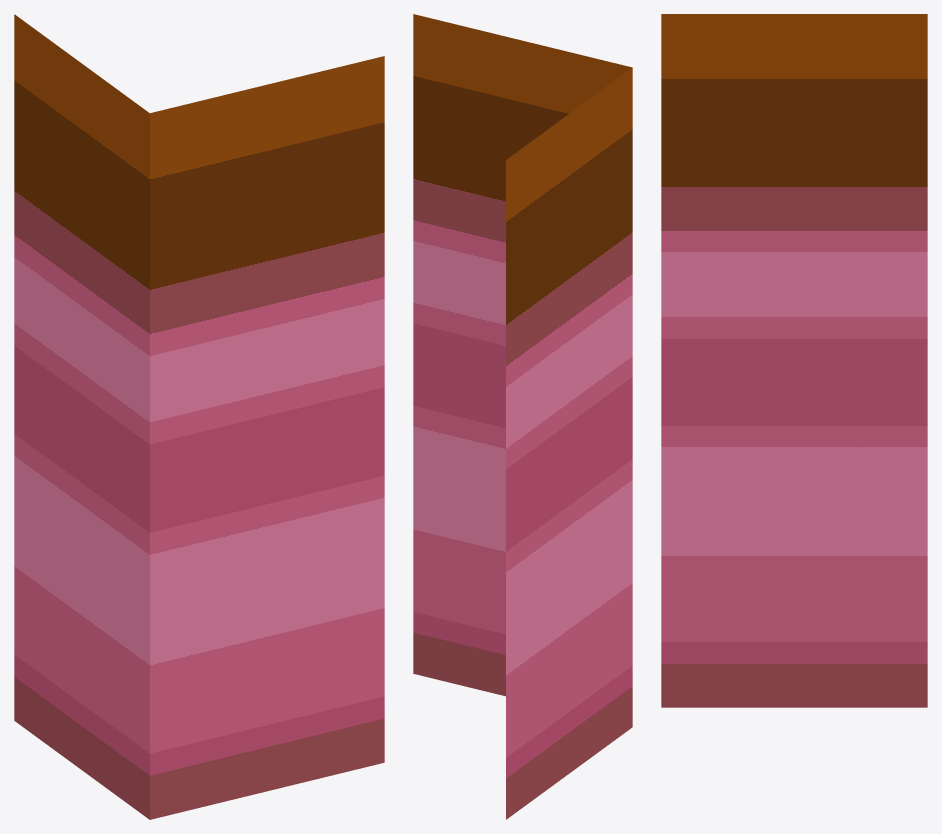
3 renders of one model, left to right at view 1: azimuth 30°, elevation 25°; view 2: azimuth 150°, elevation 25°; view 3: azimuth 270°, elevation 25°, orthographic. The views are drawn at different scales.
Bounding box in the file's own units: 0.5 × 1.44 × 0.5.
1 material, 1 textured.
